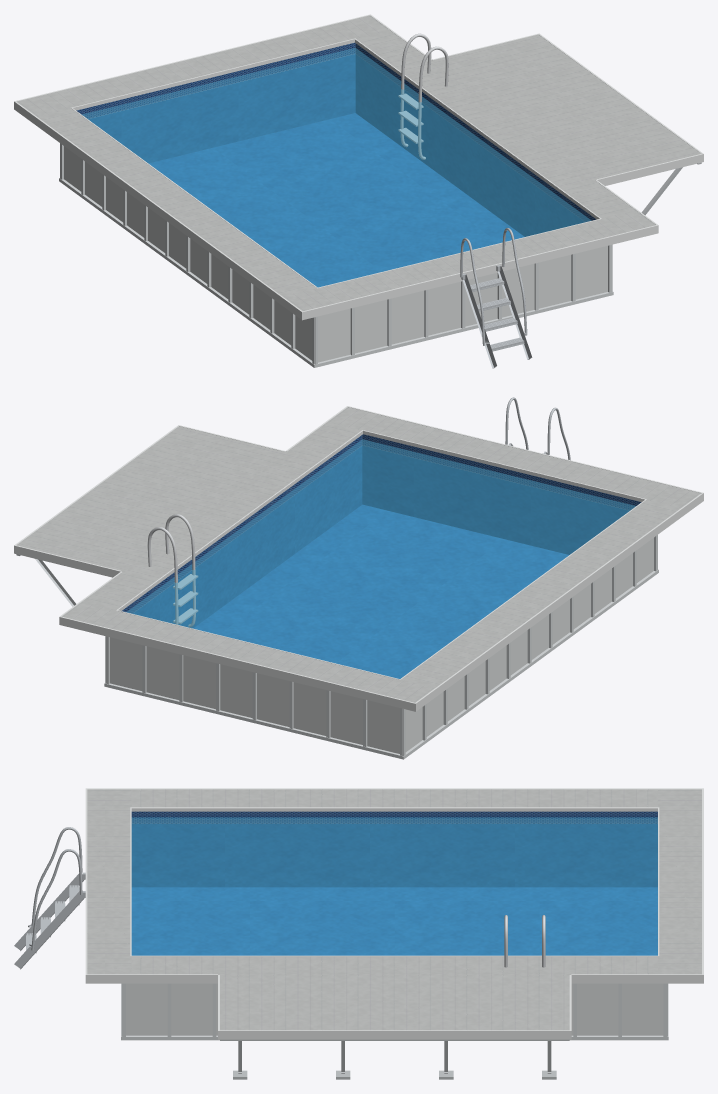
Rendered from kayak-pool-16x24-white-t-ag-nofence.3c5ca74142.glb.
3 views of the same model, one above another, from view 1: azimuth 30°, elevation 25°; view 2: azimuth 150°, elevation 25°; view 3: azimuth 270°, elevation 25° (orthographic). The views are drawn at different scales.
Visible parts, largest first — view 1: water, deck, liner_floor, liner_wall, wall, fascia, upright, ladder, steel; view 2: water, deck, liner_floor, liner_wall, wall, fascia, upright, steel, ladder; view 3: water, deck, liner_wall, liner_floor, fascia, wall, ladder, upright, stud.
Part boxes in pixels (x1=…): water: x1=82, y1=48, x2=591, y2=287; deck: x1=17, y1=15, x2=700, y2=311; liner_floor: x1=149, y1=113, x2=524, y2=287; liner_wall: x1=76, y1=42, x2=595, y2=236; wall: x1=64, y1=146, x2=607, y2=362; fascia: x1=14, y1=14, x2=703, y2=320; upright: x1=59, y1=143, x2=613, y2=367; ladder: x1=460, y1=228, x2=532, y2=368; steel: x1=398, y1=33, x2=448, y2=159; water: x1=127, y1=439, x2=635, y2=678; deck: x1=17, y1=407, x2=700, y2=702; liner_floor: x1=193, y1=504, x2=568, y2=678; liner_wall: x1=121, y1=434, x2=641, y2=628; wall: x1=110, y1=538, x2=653, y2=753; fascia: x1=14, y1=406, x2=703, y2=711; upright: x1=104, y1=535, x2=658, y2=759; steel: x1=147, y1=514, x2=198, y2=627; ladder: x1=505, y1=397, x2=570, y2=460; water: x1=131, y1=817, x2=657, y2=955; deck: x1=87, y1=789, x2=701, y2=1030; liner_wall: x1=131, y1=811, x2=657, y2=887; liner_floor: x1=131, y1=887, x2=657, y2=955; fascia: x1=85, y1=788, x2=703, y2=1039; wall: x1=126, y1=983, x2=663, y2=1035; ladder: x1=14, y1=827, x2=85, y2=969; upright: x1=121, y1=983, x2=668, y2=1040; stud: x1=220, y1=1039, x2=569, y2=1079.
Size of the model in its own units: 7.93 by 1.9 by 9.52.
Materials: 10 (3 with a texture image).
